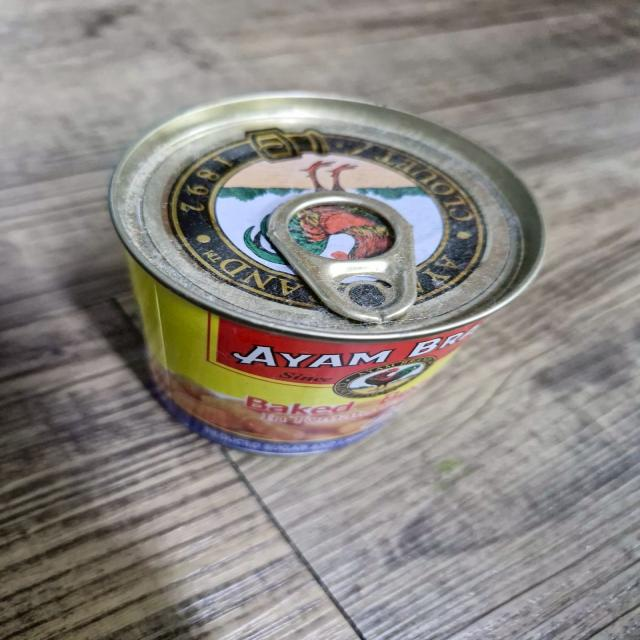can: (116, 98, 544, 462)
